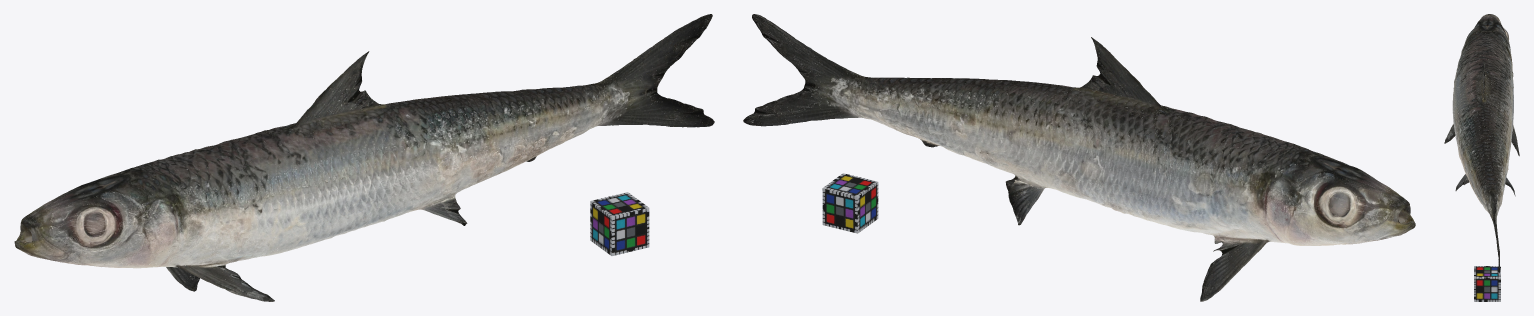
The model's file is urumeiwashi-2d9502c77de1.glb.
3 views of the same model, side by side, from view 1: azimuth 30°, elevation 25°; view 2: azimuth 150°, elevation 25°; view 3: azimuth 270°, elevation 25° (orthographic). The views are drawn at different scales.
Parts seen in each view (by area): view 1: Q11655-1all_5, Cube_2; view 2: Q11655-1all_5, Cube_2; view 3: Q11655-1all_5, Cube_2.
Boxes of the visible parts, left/top/right/bottom form: Q11655-1all_5: left=14, top=14, right=714, bottom=301; Cube_2: left=590, top=192, right=649, bottom=255; Q11655-1all_5: left=743, top=14, right=1415, bottom=301; Cube_2: left=822, top=173, right=878, bottom=233; Q11655-1all_5: left=1444, top=14, right=1519, bottom=273; Cube_2: left=1474, top=266, right=1500, bottom=301.
Bounding box in the file's own units: 11.14 × 3.86 × 1.66.
2 materials, 2 textured.
